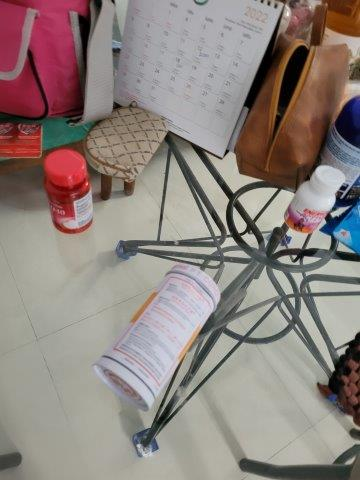kaleng: (92, 266, 222, 411)
